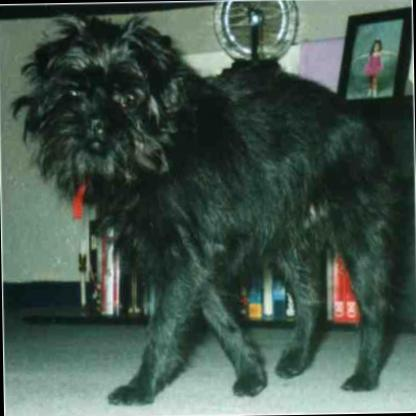affenpinscher: (6, 5, 406, 410)
